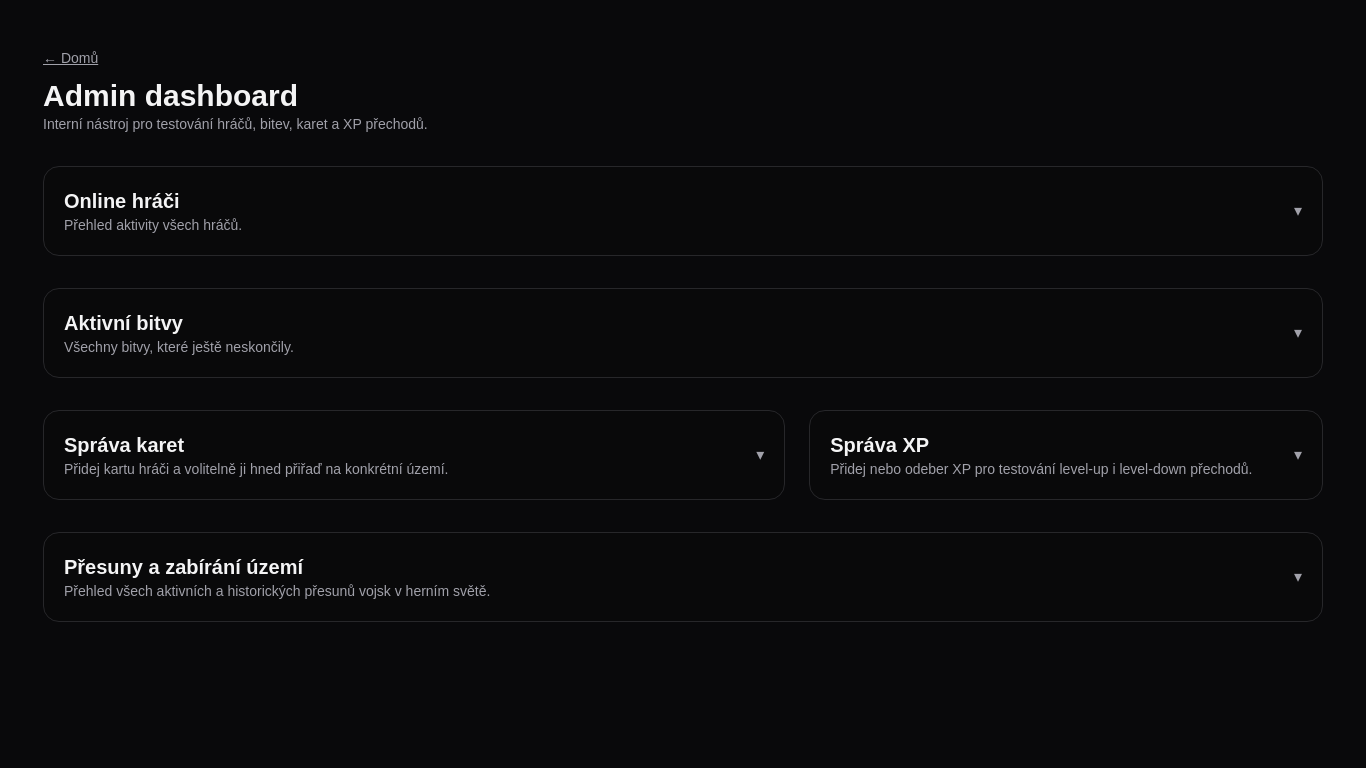
Test: AdminPage › card grid renders thumbnails in 3-per-row layout
Click the button "Správa karet": (124, 445) left=64, top=431, right=764, bottom=479
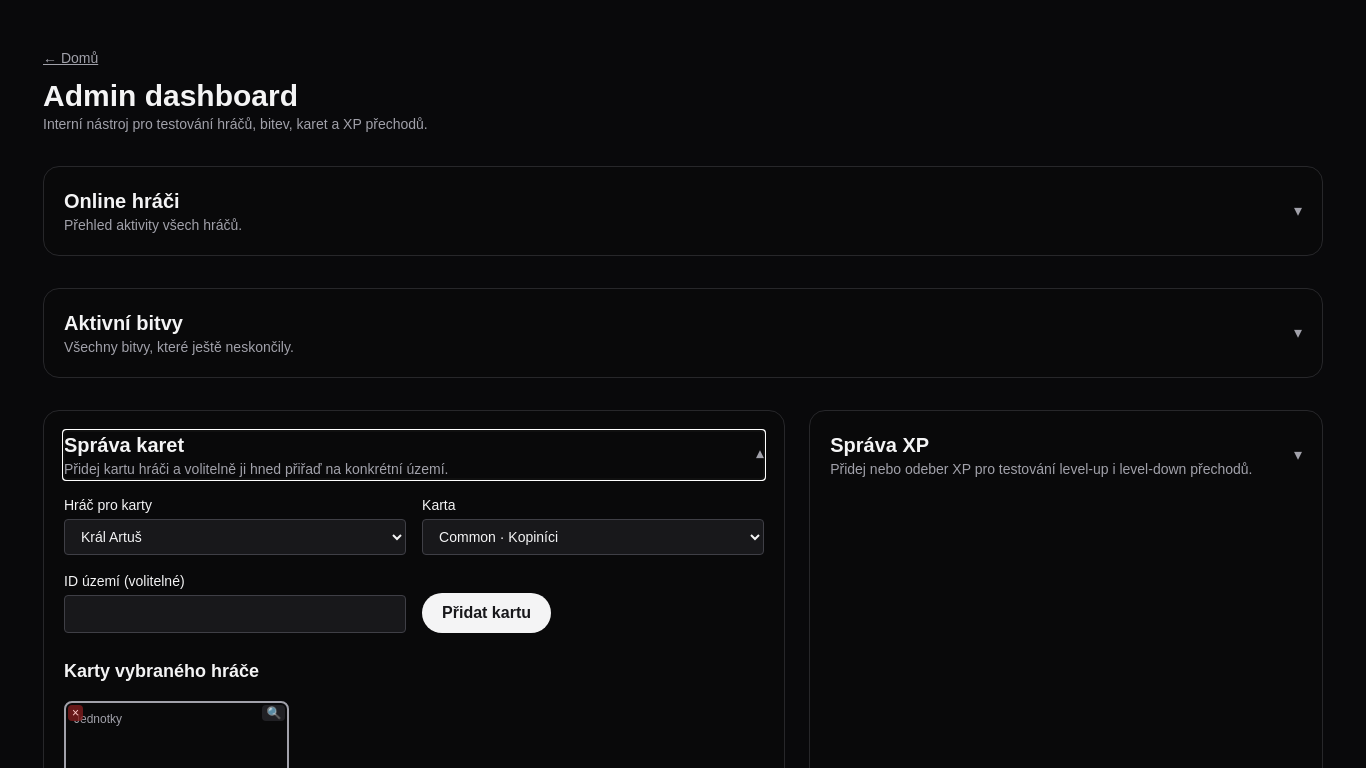
Result: the button named "Odebrat kartu Kopiníci" is shown at left=68, top=705, right=83, bottom=721
Result: the button named "Zvětšit kartu Kopiníci" is shown at left=262, top=705, right=285, bottom=721
